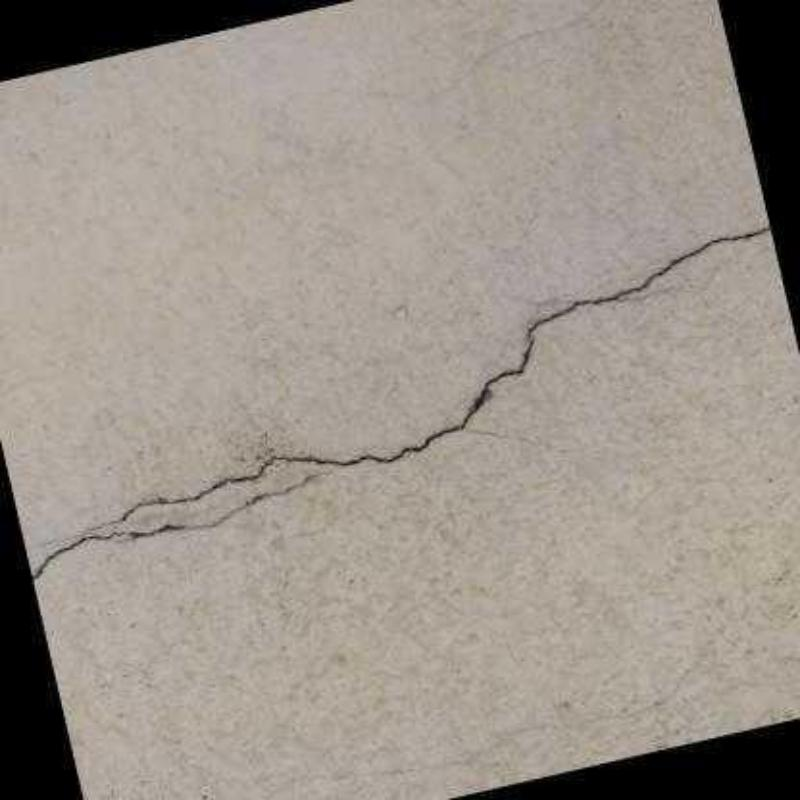pothole: (28, 222, 773, 587)
